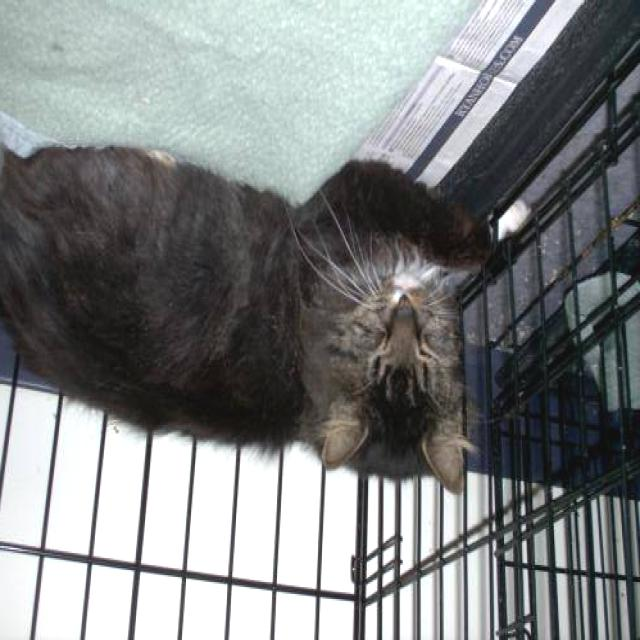Kucing: (0, 105, 510, 512)
